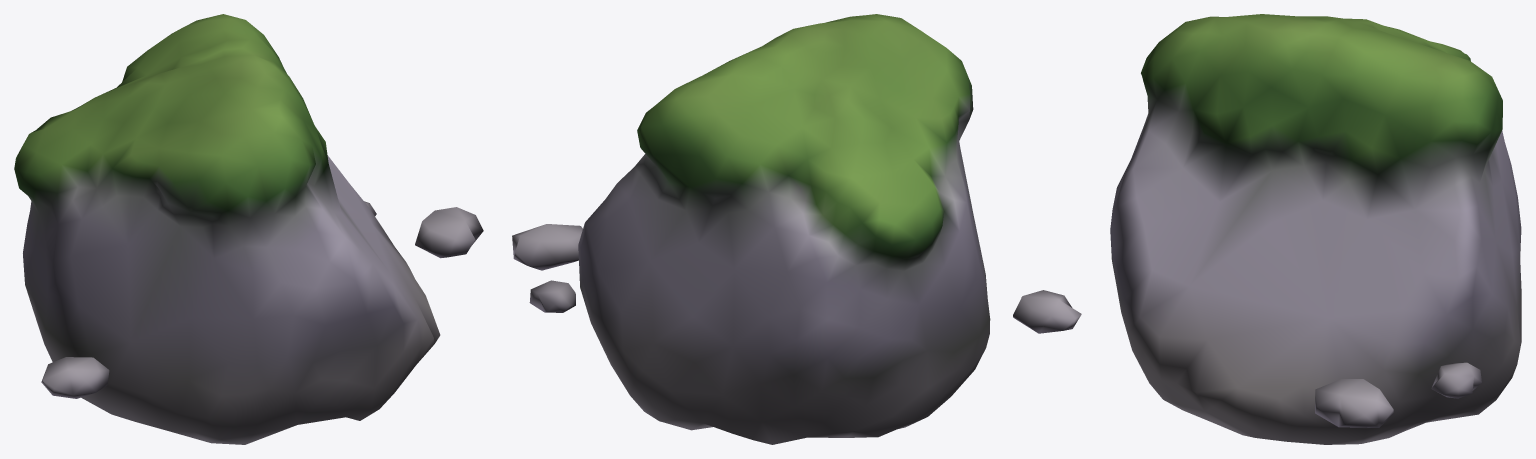
Rendered from tree-village-rock-v1.glb.
3 renders of one model, left to right at view 1: azimuth 30°, elevation 25°; view 2: azimuth 150°, elevation 25°; view 3: azimuth 270°, elevation 25°, orthographic. The views are drawn at different scales.
Parts seen in each view (by area): view 1: rock; view 2: rock; view 3: rock.
Boxes of the visible parts, left/top/right/bottom form: rock: left=14, top=14, right=483, bottom=444; rock: left=512, top=14, right=1081, bottom=444; rock: left=1110, top=14, right=1521, bottom=444.
Size of the model in its own units: 1.48 by 0.9484 by 1.01.
